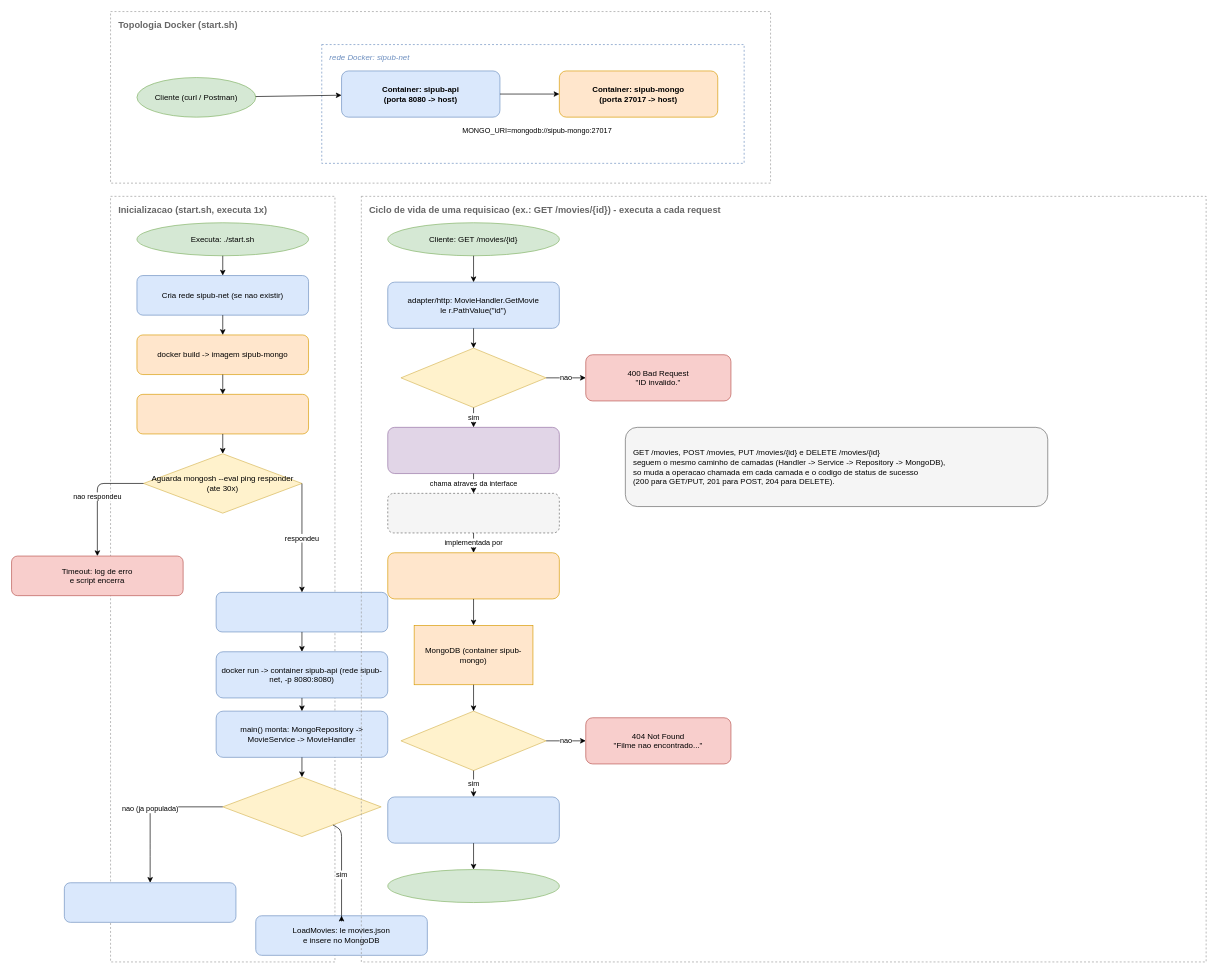
The diagram is 1218 pixels wide and 974 high, and some of its shapes have lost their labels. Each missing label, with the centre of its shape:
"200 OK: filme em JSON" belongs at point 473,886.
"adapter/mongo: MovieRepository.GetByID FindOne({_id: id}) na colecao" belongs at point 473,575.
"Colecao vazia?" belongs at point 301,806.
"Content-Type: application/json json.Encode(filme)" belongs at point 473,819.
"docker build -> imagem sipub-api (multi-stage)" belongs at point 301,612.
"docker run -> container sipub-mongo (rede sipub-net)" belongs at point 222,414.
"documento encontrado?" belongs at point 473,740.
"domain: MovieRepository (porta/interface)" belongs at point 473,513.
"id e um numero inteiro?" belongs at point 473,377.
"Rotas HTTP registradas (GET/POST/PUT/DELETE /movies)" belongs at point 150,902.
"usecase: MovieService.GetByID(id) (regra de negocio)" belongs at point 473,450.
